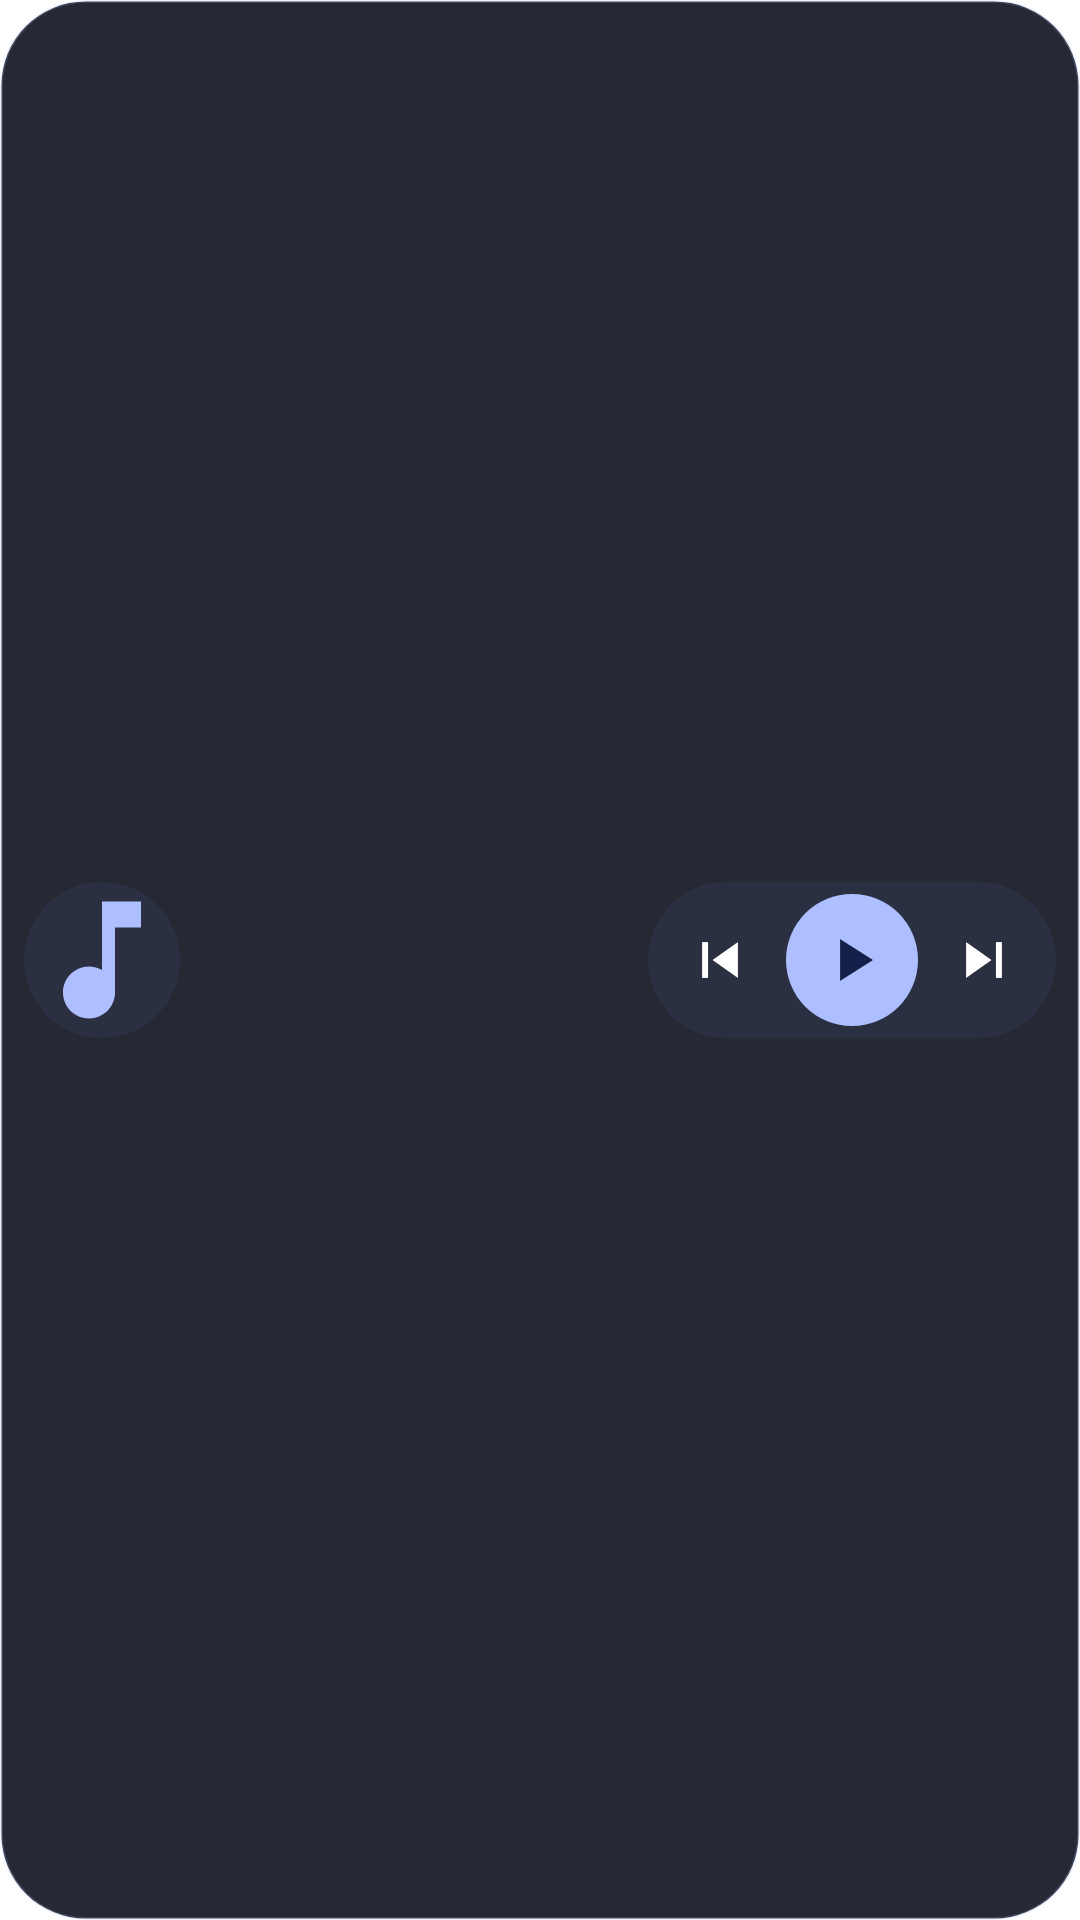

Point at icon controls on the screen. Image size 1080px x 1920px, points as (x,y).
Next: (984,960)
Play: (852,960)
Previous: (720,960)
